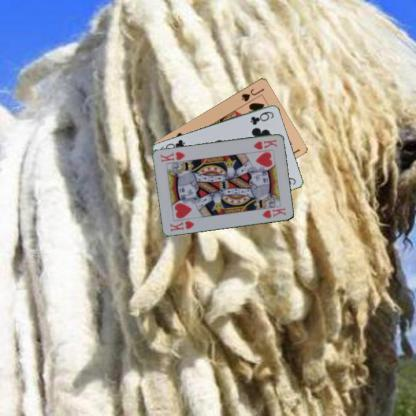6c: (248, 108, 275, 126)
Js: (238, 86, 266, 102)
Kh: (167, 218, 196, 233), (251, 136, 278, 151)
